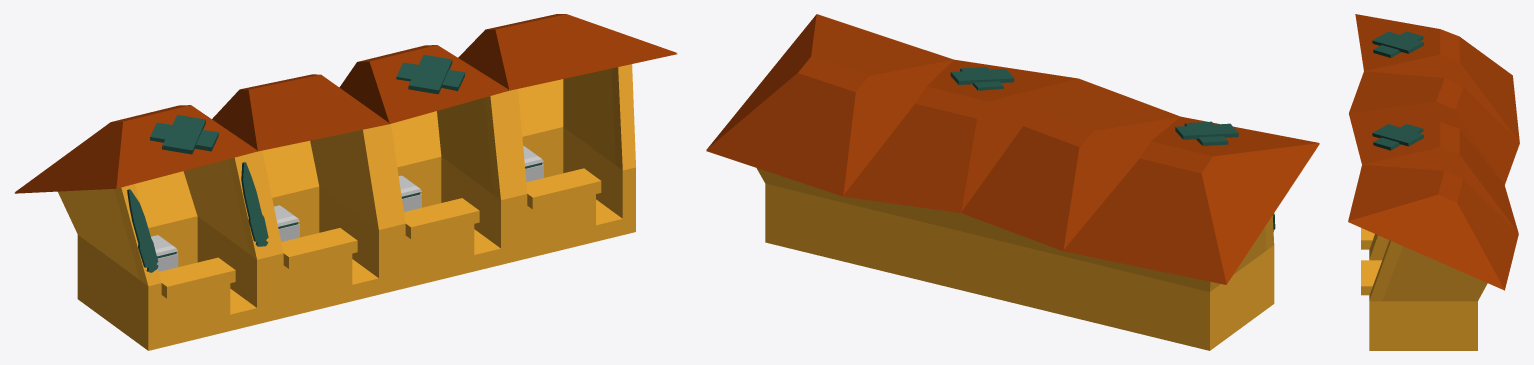
Rendered from 05.07_Bubuia_feira.fbx.
3 renders of one model, left to right at view 1: azimuth 30°, elevation 25°; view 2: azimuth 150°, elevation 25°; view 3: azimuth 270°, elevation 25°, orthographic. The views are drawn at different scales.
Parts seen in each view (by area): view 1: Cube; view 2: Cube; view 3: Cube.
Boxes of the visible parts, <box> form: Cube: <box>14,14,677,350</box>; Cube: <box>706,14,1319,350</box>; Cube: <box>1348,14,1519,350</box>.
Size of the model in its own units: 16.8 by 5.42 by 5.64.
